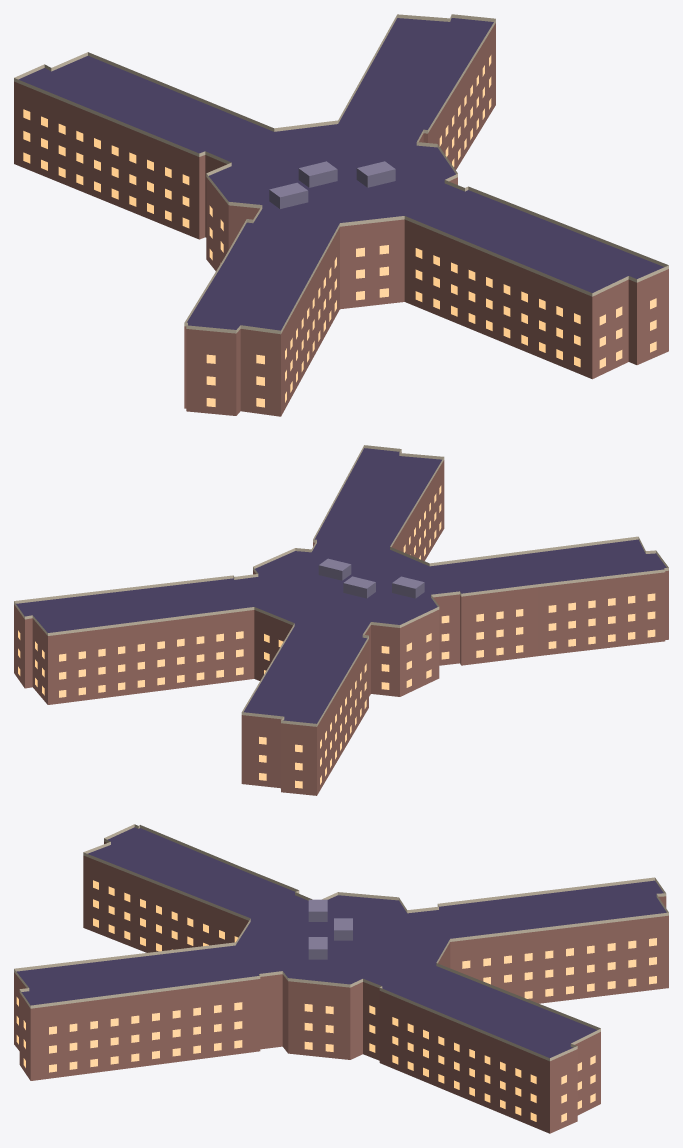
File: b-092-delaware-hall.glb
3 renders of one model, top to bottom at view 1: azimuth 30°, elevation 25°; view 2: azimuth 150°, elevation 25°; view 3: azimuth 270°, elevation 25°, orthographic. The views are drawn at different scales.
Parts seen in each view (by area): view 1: campus/b-092-delaware-hall-0; view 2: campus/b-092-delaware-hall-0; view 3: campus/b-092-delaware-hall-0.
Part boxes in pixels (x1,y1,x2,y2): campus/b-092-delaware-hall-0: (14, 14, 668, 416); campus/b-092-delaware-hall-0: (14, 445, 668, 795); campus/b-092-delaware-hall-0: (14, 824, 668, 1133).
Bounding box in the file's own units: 87.34 × 14.4 × 103.
